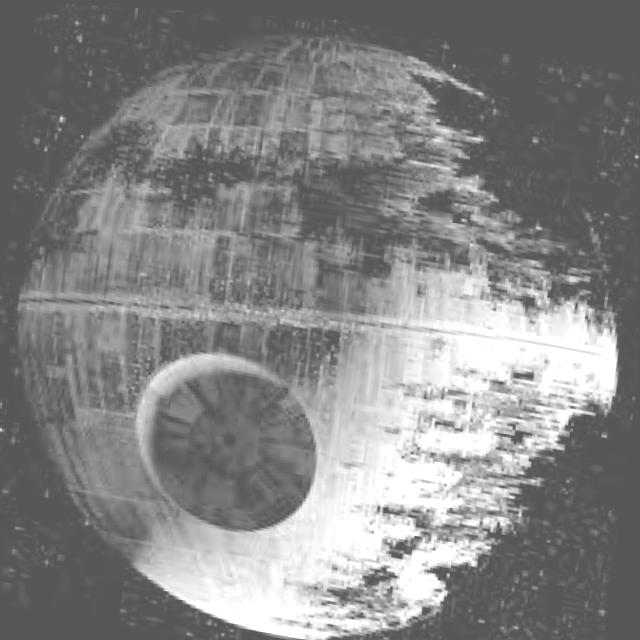death-stars: (16, 25, 619, 637)
